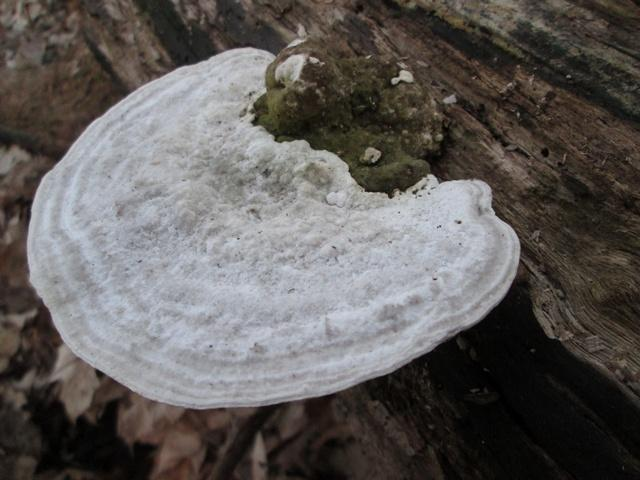Non-edible Mushroom: (25, 42, 522, 410)
